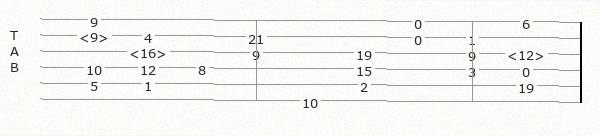0: (414, 30, 426, 43), (414, 14, 426, 27), (522, 62, 534, 75)
1: (144, 78, 156, 91), (468, 30, 480, 43)
10: (86, 62, 106, 75), (302, 94, 322, 107)
12: (140, 62, 160, 75)
15: (356, 62, 376, 75)
19: (356, 46, 376, 59), (518, 78, 538, 91)
2: (360, 78, 372, 91)
21: (248, 30, 268, 43)
3: (468, 62, 480, 75)
4: (144, 30, 156, 43)
5: (90, 78, 102, 91)
6: (522, 14, 534, 27)
8: (198, 62, 210, 75)
9: (90, 14, 102, 27), (252, 46, 264, 59), (468, 46, 480, 59)
harmonic: (129, 45, 171, 59), (507, 45, 549, 59), (79, 29, 113, 43)
